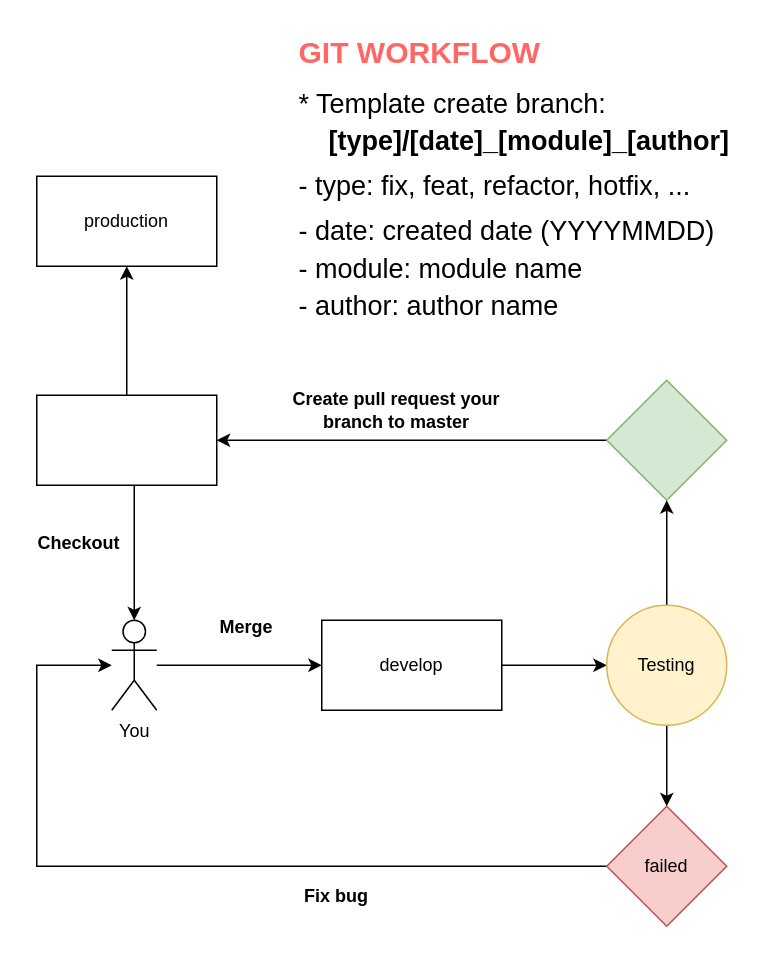
Some shapes in this 783 by 953 pixel diagram are drawn without their labels. The shapes that lost their labels are listed below. From the top down, each one's centre as x and y in pixels, then its label:
point 126,439: master
point 666,439: success
